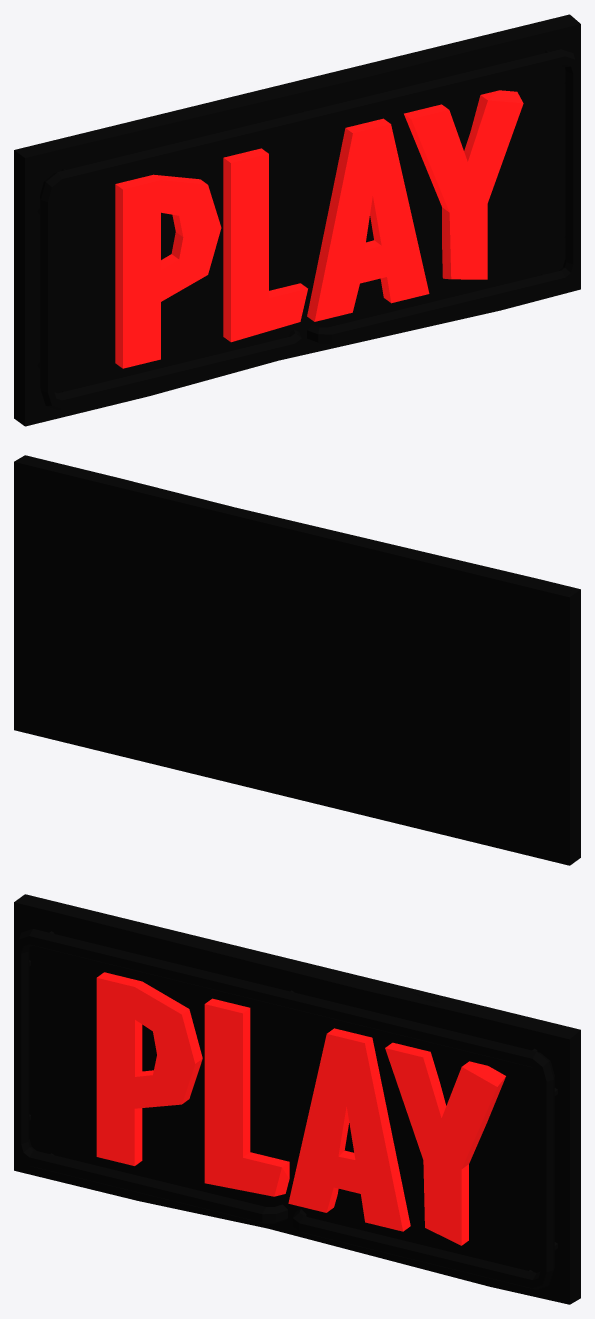
Rendered from Play.fbx.
The picture shows the model from 3 angles, top to bottom: view 1: azimuth 30°, elevation 25°; view 2: azimuth 150°, elevation 25°; view 3: azimuth 330°, elevation 25°; orthographic projection.
Parts seen in each view (by area): view 1: SM_Sign_Backing_Short_04, SM_Sign_3dText_Letter_A, SM_Sign_3dText_Letter_P, SM_Sign_3dText_Letter_Y, SM_Sign_3dText_Letter_L; view 2: SM_Sign_Backing_Short_04; view 3: SM_Sign_Backing_Short_04, SM_Sign_3dText_Letter_A, SM_Sign_3dText_Letter_P, SM_Sign_3dText_Letter_Y, SM_Sign_3dText_Letter_L.
Part boxes in pixels (<box>): SM_Sign_Backing_Short_04: <box>14,14,580,426</box>; SM_Sign_3dText_Letter_A: <box>307,118,429,321</box>; SM_Sign_3dText_Letter_P: <box>115,174,221,368</box>; SM_Sign_3dText_Letter_Y: <box>404,90,523,279</box>; SM_Sign_3dText_Letter_L: <box>223,148,307,342</box>; SM_Sign_Backing_Short_04: <box>14,455,580,865</box>; SM_Sign_Backing_Short_04: <box>14,894,580,1304</box>; SM_Sign_3dText_Letter_A: <box>288,1028,410,1231</box>; SM_Sign_3dText_Letter_P: <box>96,972,202,1165</box>; SM_Sign_3dText_Letter_Y: <box>385,1042,505,1245</box>; SM_Sign_3dText_Letter_L: <box>204,998,289,1196</box>.
Size of the model in its own units: 232 by 107 by 15.81.
